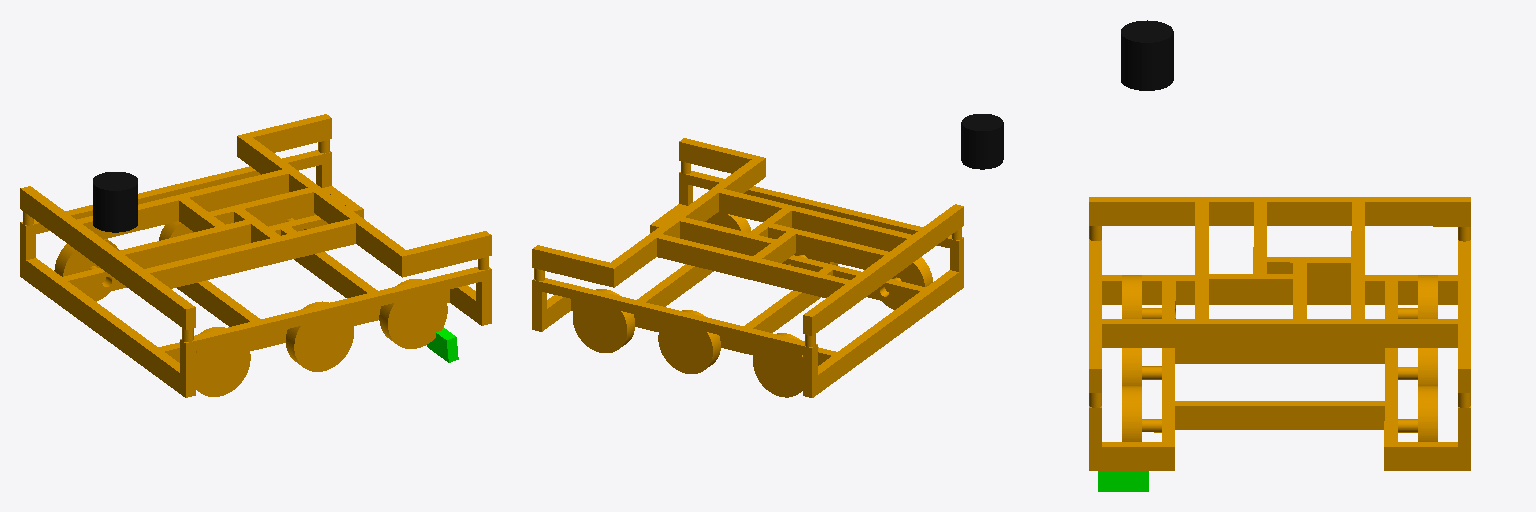
URDF robot description (unnamed):
<robot name="unnamed">

  <material name="green">
	<color rgba="0 1 0 1"/>
  </material>

  <material name="grey">
	<color rgba="0.1 0.1 0.1 1"/>
  </material>

  <link name="base_link">
    <visual>
      <origin rpy="0 0 1.57" xyz="0.2 0 0.15"/>
      <geometry>
        <mesh filename="package://unnamed_toaster/meshes/unnamed_toaster_frame.stl"/>
      </geometry>
    </visual>
  </link>

  <joint name="base_link_to_laser" type="fixed">
    <parent link="base_link"/>
    <child link="laser"/>
    <origin xyz="-0.3048 -0.254 0.6096" rpy="0 0 1.57"/>
  </joint>

  <link name="laser">
    <visual>
      <origin rpy="0 0 0" xyz="0 0 0"/>
      <geometry>
        <cylinder length="0.1016" radius="0.0508"/>
      </geometry>
	  <material name="grey"/>
    </visual>
  </link>
  
  <joint name="base_link_to_turret" type="revolute">
    <axis xyz="0 0 1"/>
    <limit effort="1000.0" lower="-6.0" upper="6.0" velocity="0.5"/>
    <parent link="base_link"/>
    <child link="turret"/>
    <origin xyz="0.0 0.0 0.0" rpy="0 0 0"/>
  </joint>

  <link name="turret">
    <visual>
      <origin xyz="0.0 0.0 0.0" rpy="0 0 0"/>
      <geometry>
        <mesh filename="package://unnamed_toaster/meshes/unnamed_toaster_turret.stl"/>
      </geometry>
	  <material name="grey"/>
    </visual>
  </link>

  <joint name="turret_to_limelight" type="fixed">
    <parent link="turret"/>
    <child link="limelight"/>
    <origin rpy="0 -0.1 0" xyz="0.5 -0.3 0.1"/>
  </joint>

  <link name="limelight">
    <visual>
      <origin xyz="0.0 0.0 0.0" rpy="0 0 0"/>
      <geometry>
        <box size="0.0254 0.09779 0.05715 "/>
      </geometry>
	  <material name="green"/>
    </visual>
  </link>
</robot>

--- Facts derived from the render (not from the file) ---
Views: 3 orthographic renders of the robot side by side, from view 1: azimuth 30°, elevation 25°; view 2: azimuth 150°, elevation 25°; view 3: azimuth 270°, elevation 25°.
Robot: unnamed — 4 links, 3 joints (1 revolute, 2 fixed); root link base_link; default pose: all joints at 0.
Links seen in each view (by area): view 1: base_link, laser, limelight; view 2: base_link, laser; view 3: base_link, laser, limelight.
Link boxes in pixels (bbox=[...]): base_link: bbox=[20, 114, 491, 397]; laser: bbox=[93, 172, 137, 232]; limelight: bbox=[427, 327, 458, 362]; base_link: bbox=[532, 138, 963, 397]; laser: bbox=[961, 114, 1003, 169]; base_link: bbox=[1089, 197, 1470, 470]; laser: bbox=[1121, 20, 1173, 90]; limelight: bbox=[1098, 471, 1148, 491].
Size in the robot's own frame: 0.9455 by 0.7309 by 0.5901 metres.
1 mesh visuals loaded from 2 distinct referenced files (1 binary STL); not drawn: 1 (reference not matched to a file when rendering).